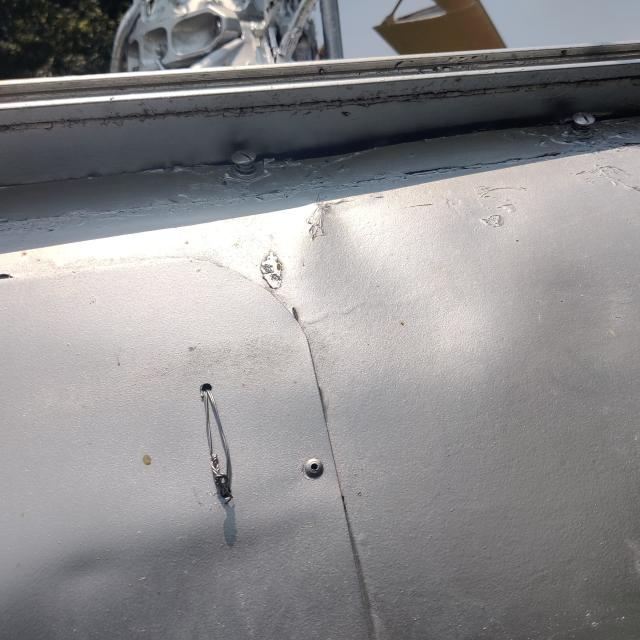dent: (273, 156, 497, 390)
